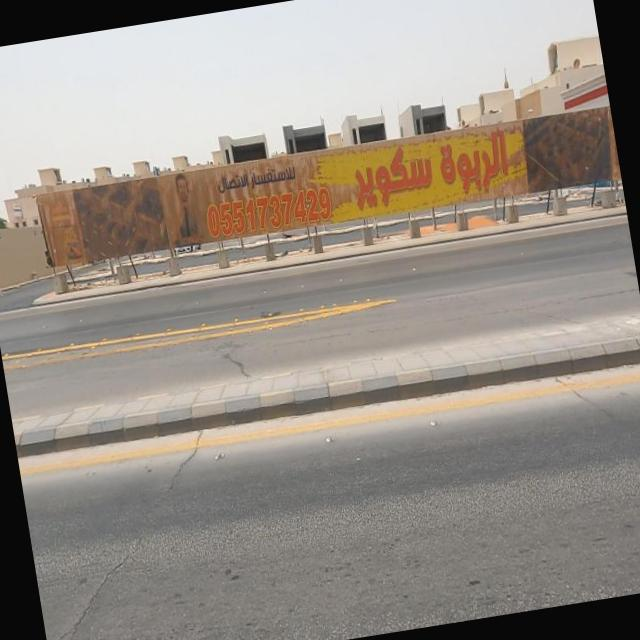debris: (0, 61, 464, 337), (323, 41, 635, 307)
